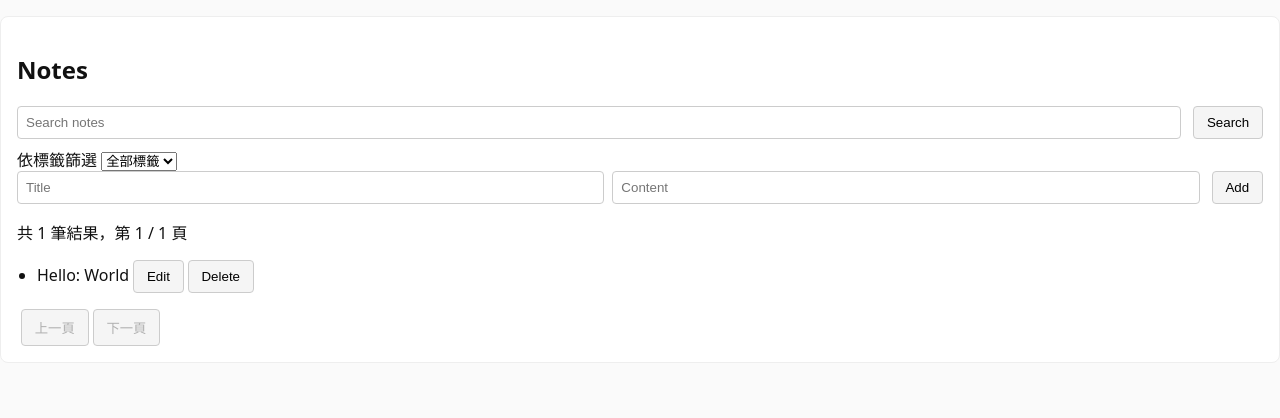
NotesSection › optimistically updates a note on edit and rolls back on failure
Expected: the list item "Hello: World Edit Delete" is shown, [37,260,254,293]
Click the button "Edit" at (158, 276), box [133,260,184,293]
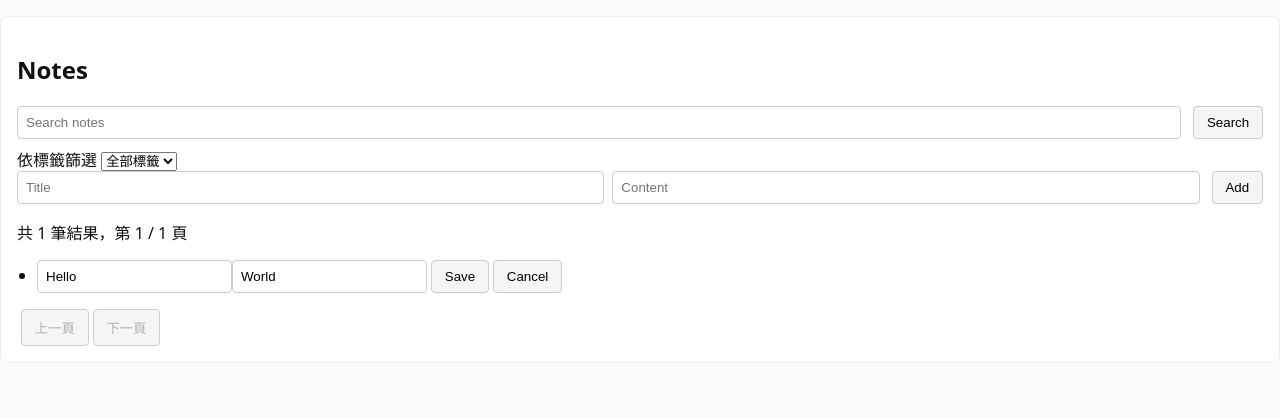
Replace the text in the field named "Edit title 1" with "Updated" at (134, 276), box [37,260,232,293]
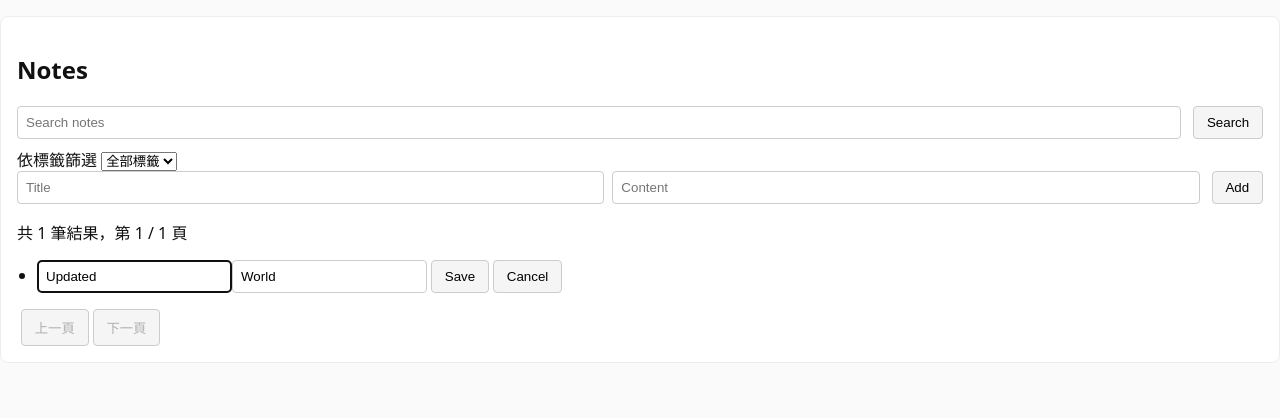
Click the button "Save" at (460, 276), box [431,260,489,293]
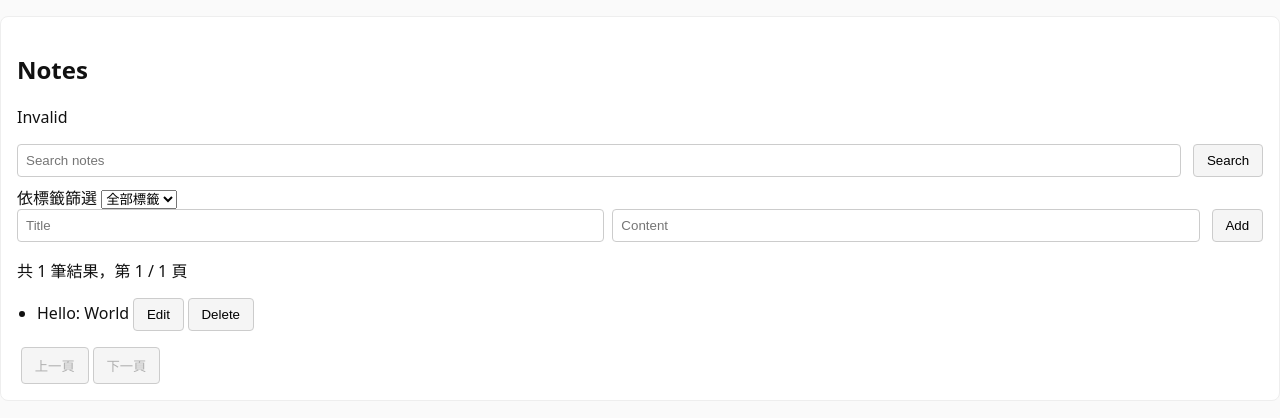
Now the list item "Hello: World Edit Delete" is shown, box [37,298,254,331]
Now the message "Invalid" is shown, box [17,106,68,128]
